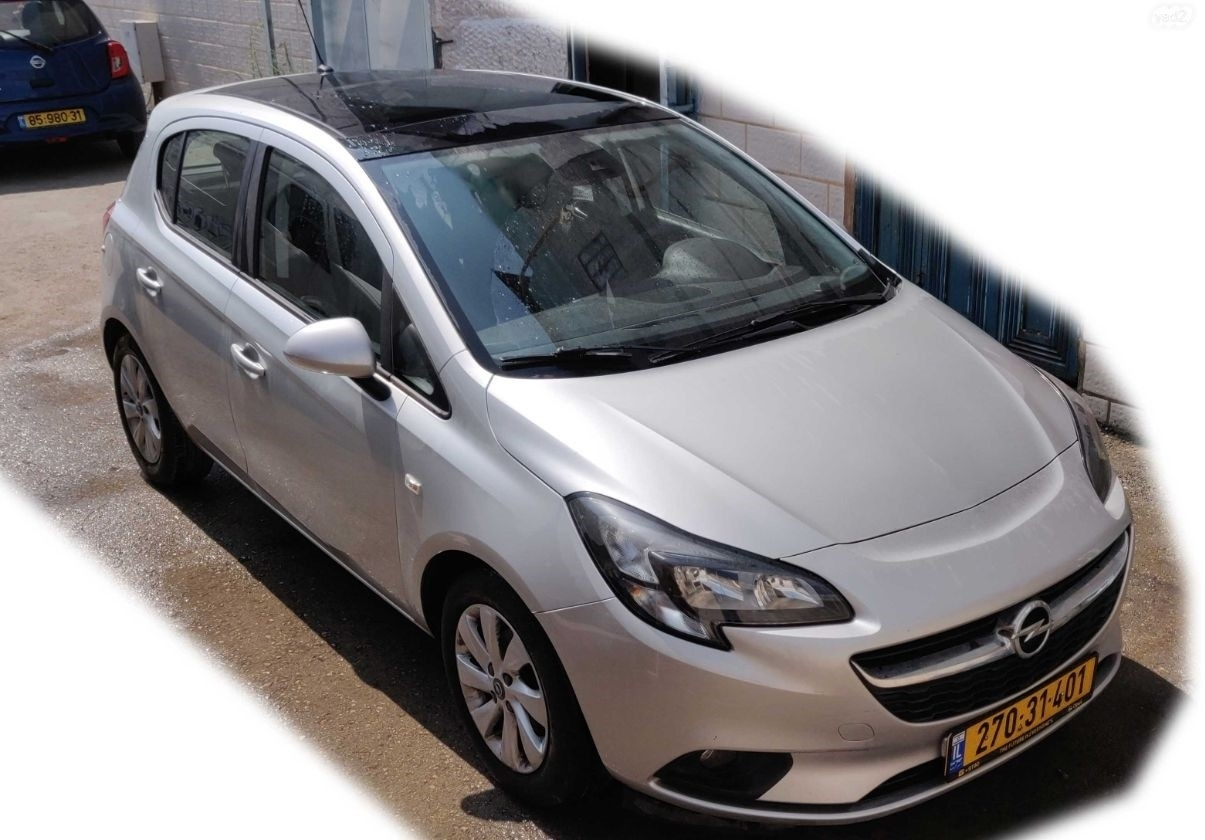licence: (941, 649, 1097, 775)
